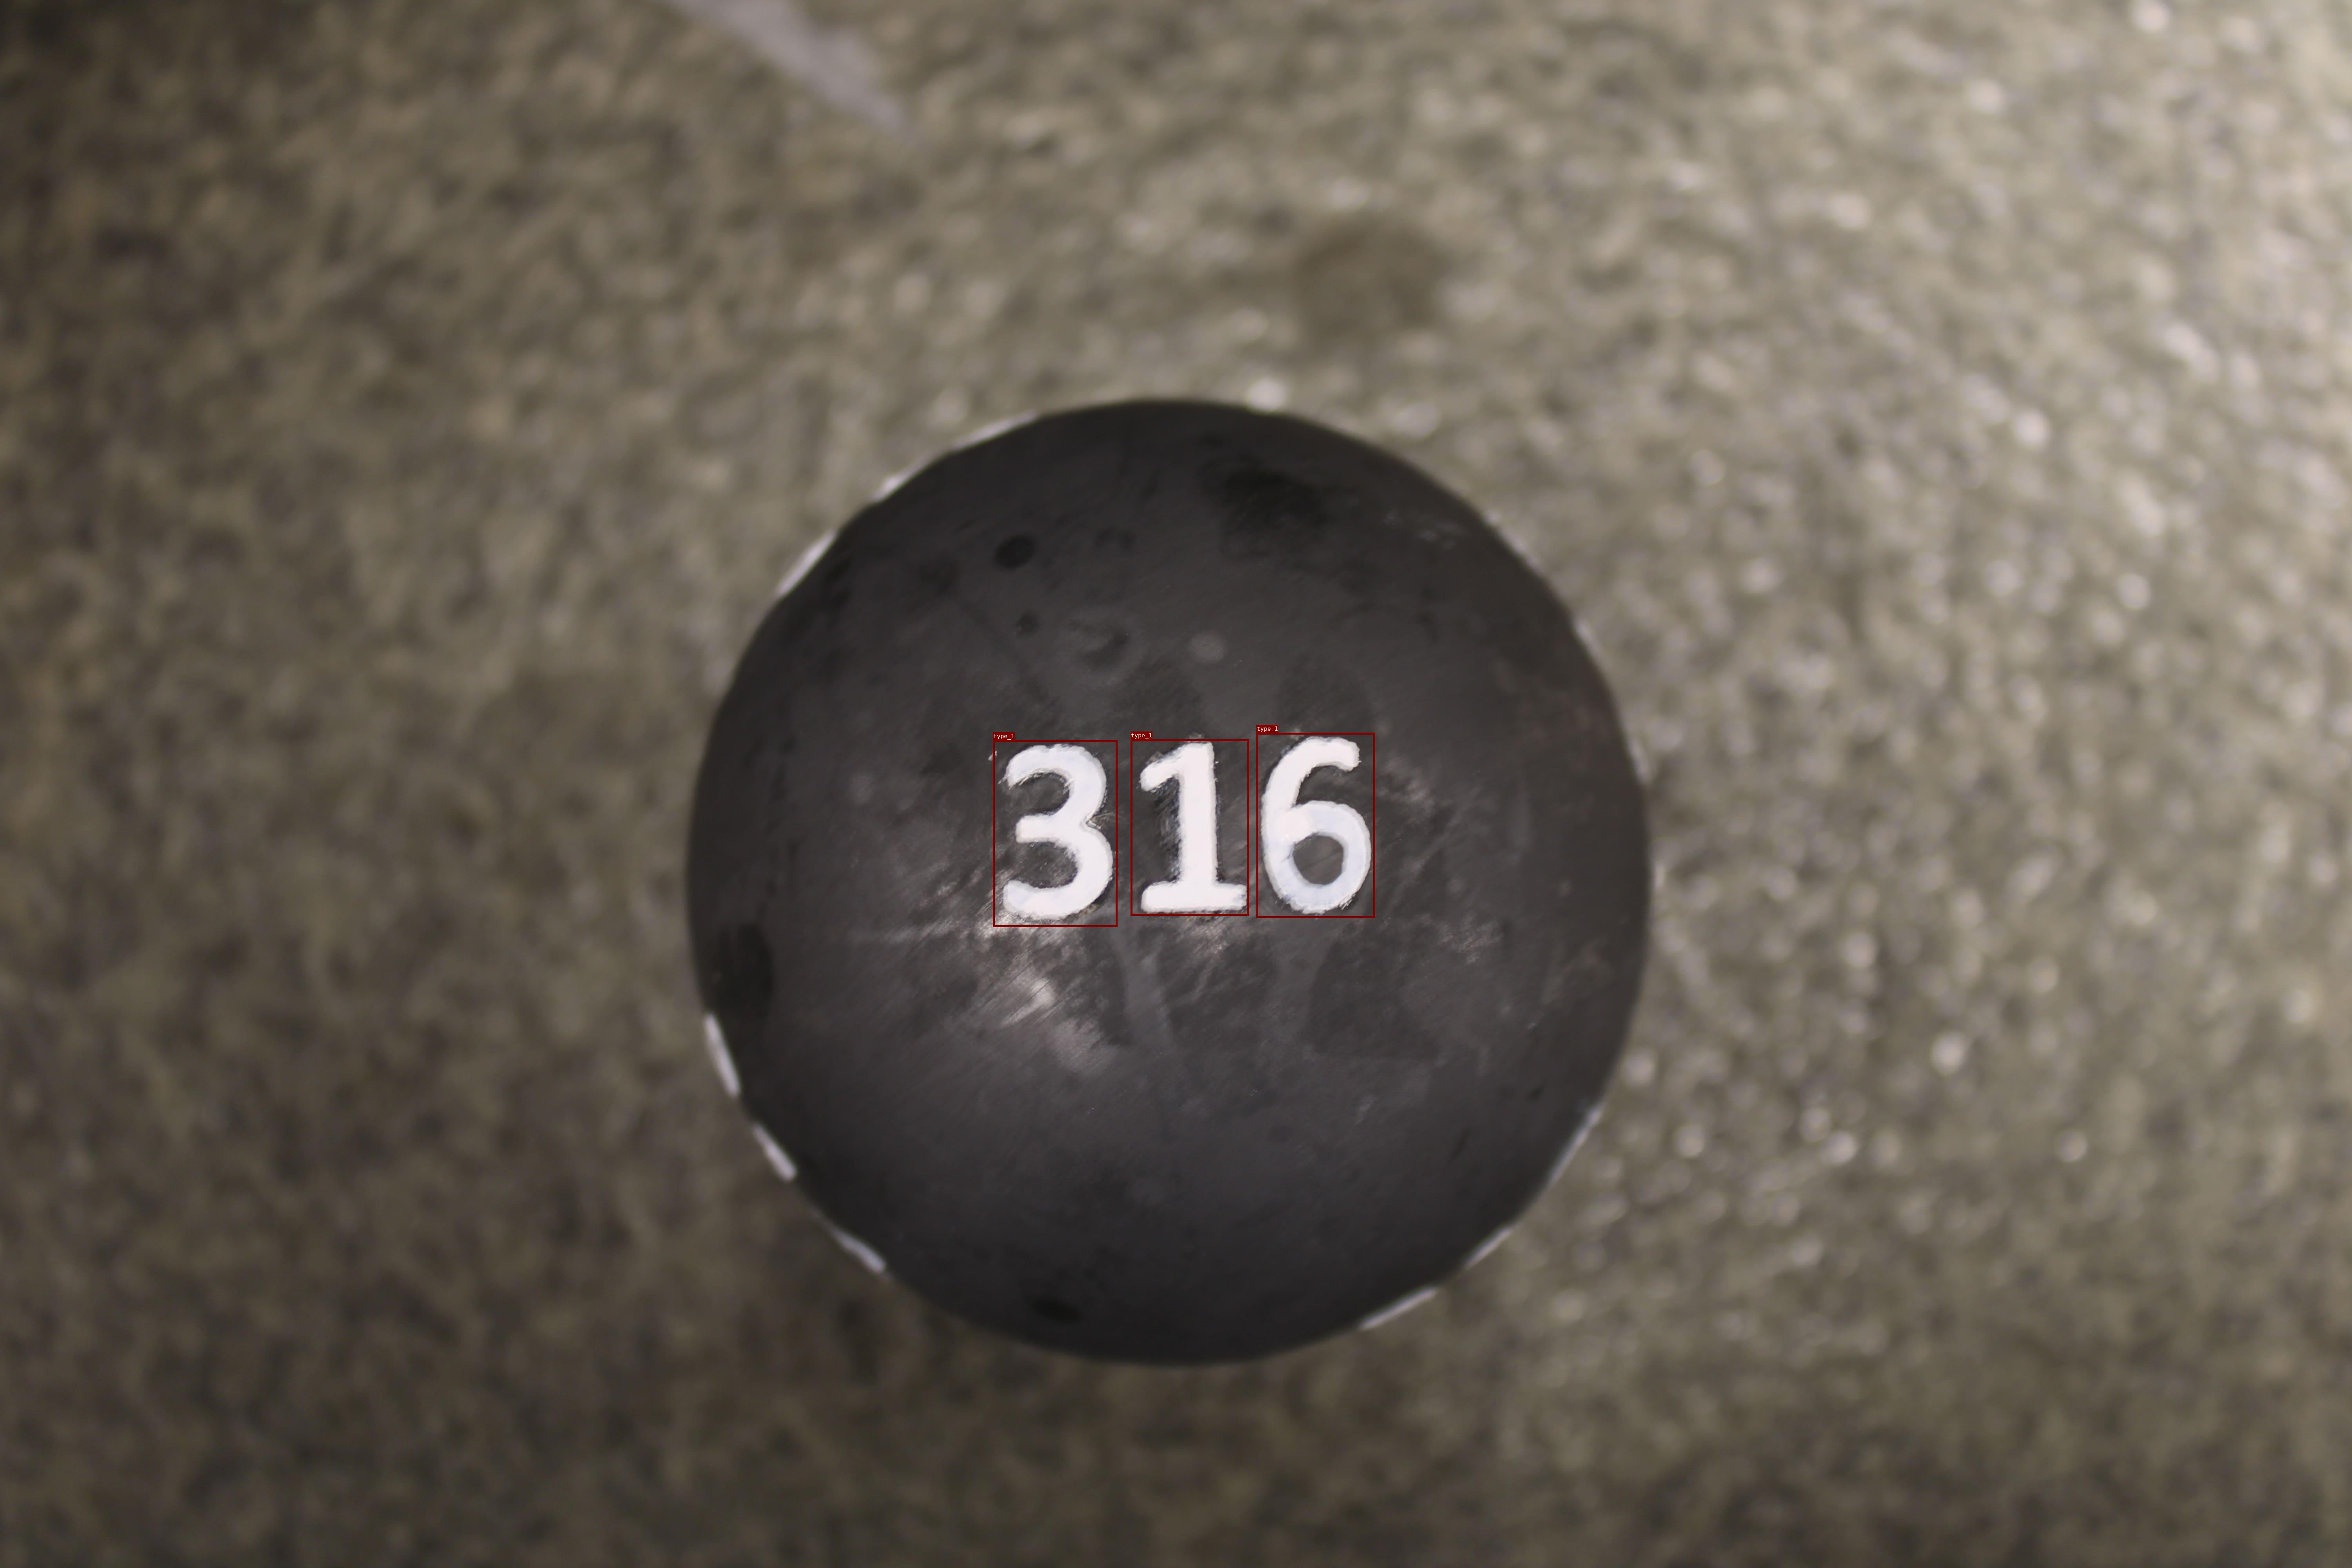type_1: (992, 740, 1116, 927), (1257, 733, 1375, 917), (1130, 739, 1249, 915)
